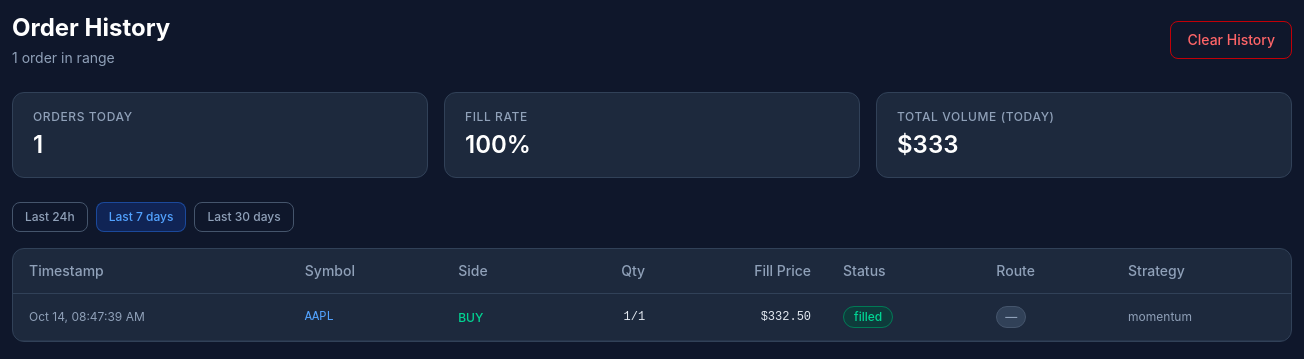
OrderHistory › clears order history after confirming
The width and height of the screenshot is (1304, 359).
Expected: the text "AAPL" is shown, [289,294,442,340]
Step 1. Click the button "Clear History" → x=1231, y=40, box [1170,21,1292,59]
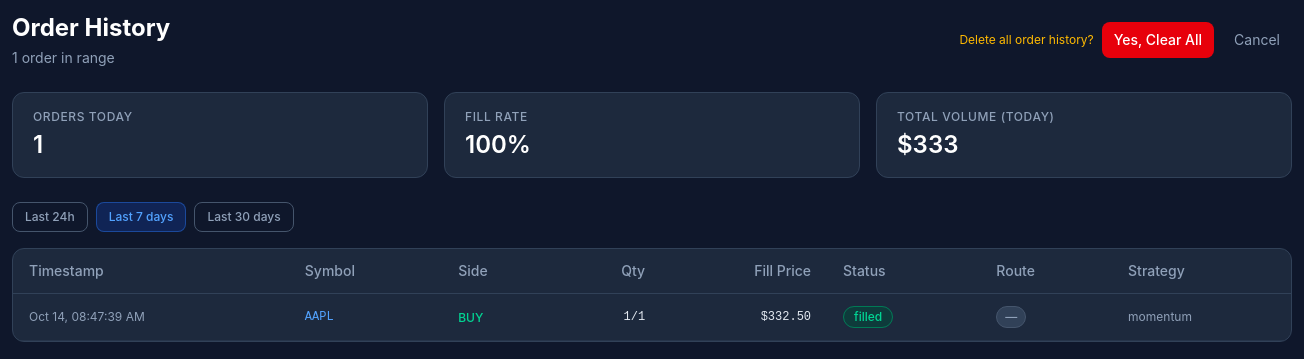
Now the text "Delete all order history?" is shown, box [959,32,1094,48]
Step 2. Click the button "Yes, Clear All" → x=1158, y=40, box [1102,22,1214,58]
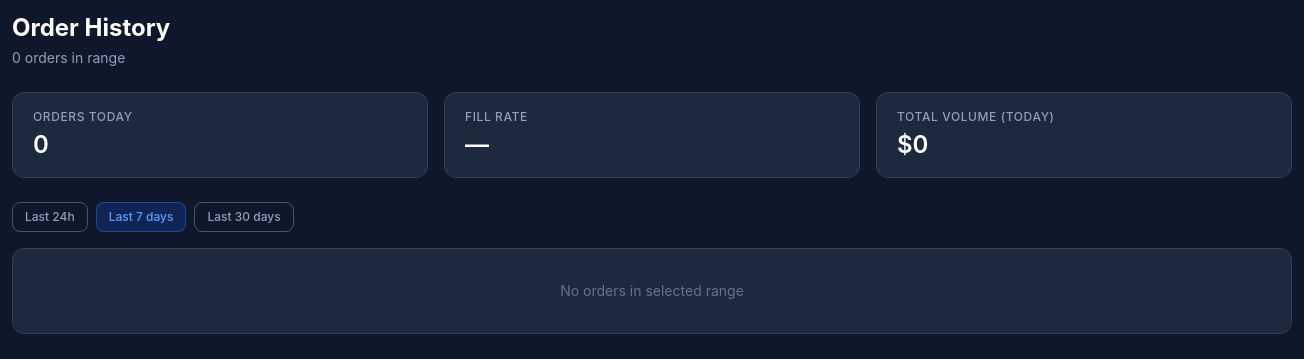
Now the text "No orders in selected range" is shown, box [560,282,744,299]
